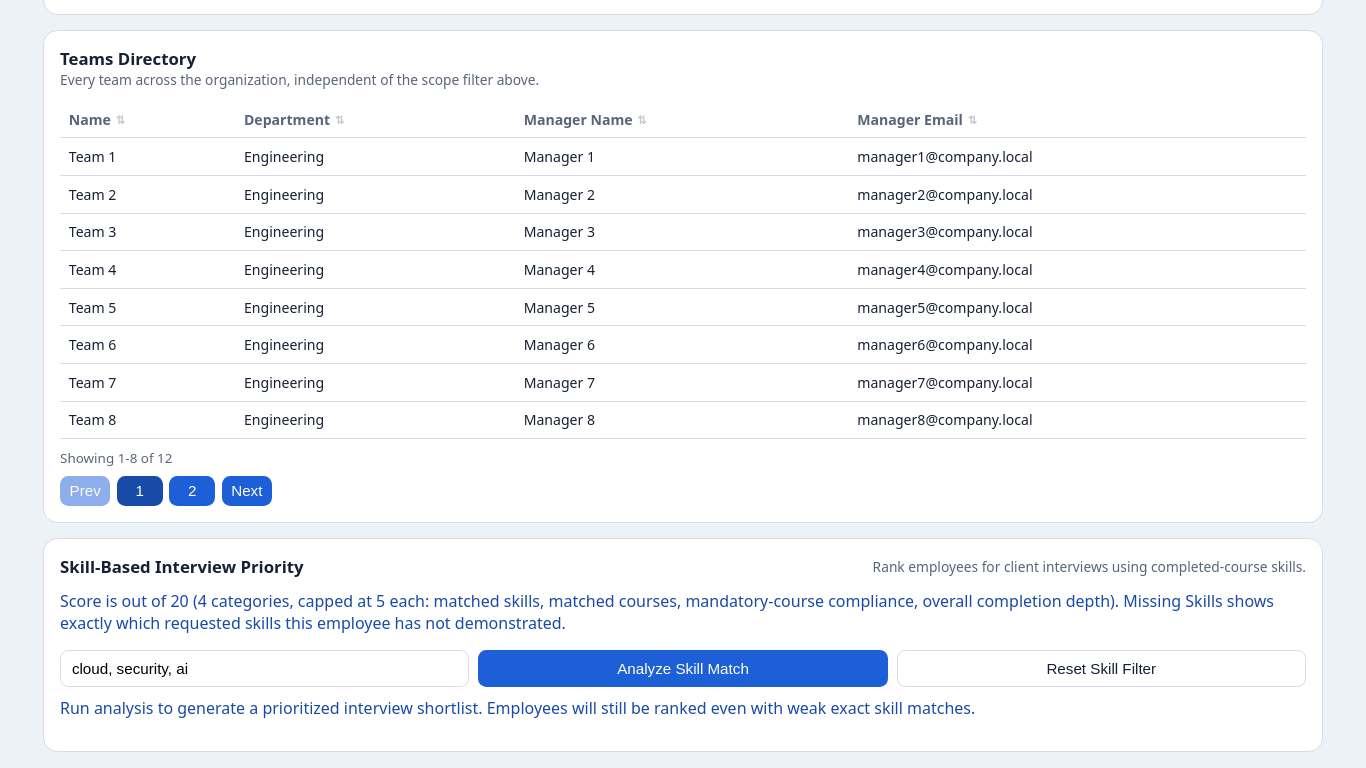
Test case: App Teams Directory pagination › shows paged teams and navigates to next page
The width and height of the screenshot is (1366, 768).
(page scrolled)
Expected: the text "Team 1" is shown, x1=60 y1=138 x2=235 y2=176
Expected: the text "Team 9" is not shown
Click the button "Next" at (247, 491), box x1=222 y1=476 x2=272 y2=506
(page scrolled)
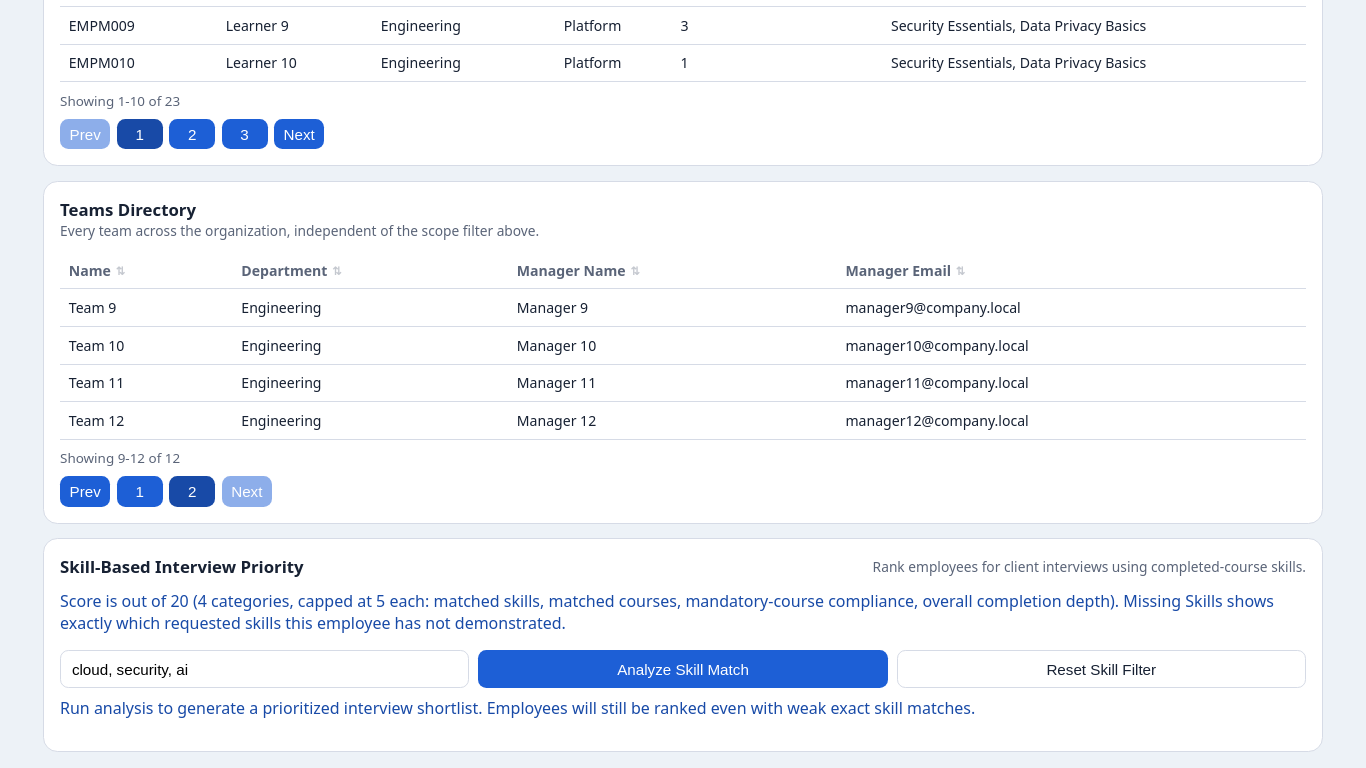
Now the text "Team 9" is shown, box x1=60 y1=289 x2=232 y2=326
